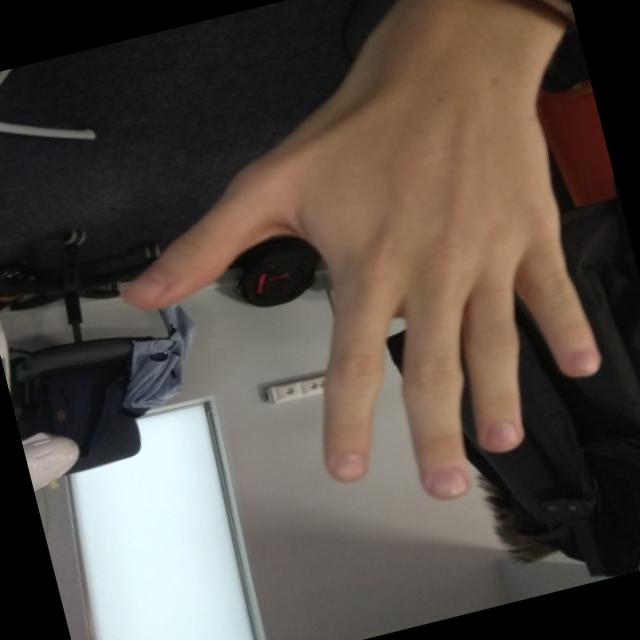Nail: (125, 269, 165, 298), (429, 465, 464, 494), (484, 422, 516, 446), (569, 345, 597, 372), (333, 452, 362, 477)
